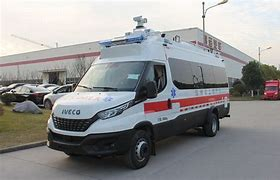specialcar: (52, 27, 235, 160)
